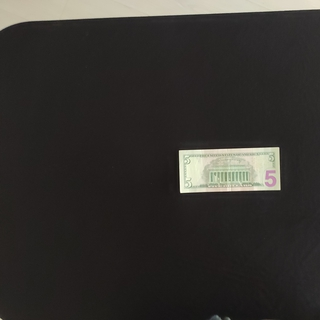5USDBack: (177, 146, 280, 193)
